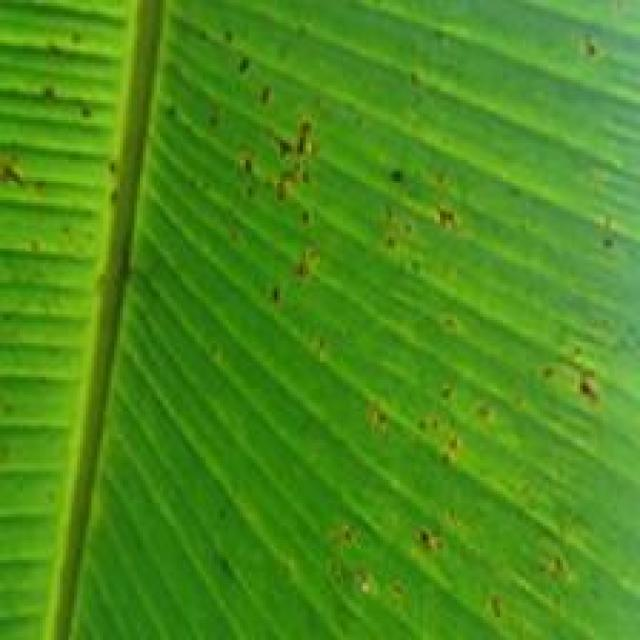Downey_mildrew: (172, 12, 488, 326), (24, 12, 140, 223), (364, 526, 585, 627), (370, 374, 496, 495), (530, 322, 598, 451)
